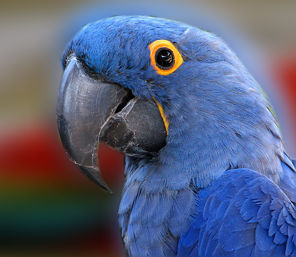guacamaya: (44, 12, 296, 253)
